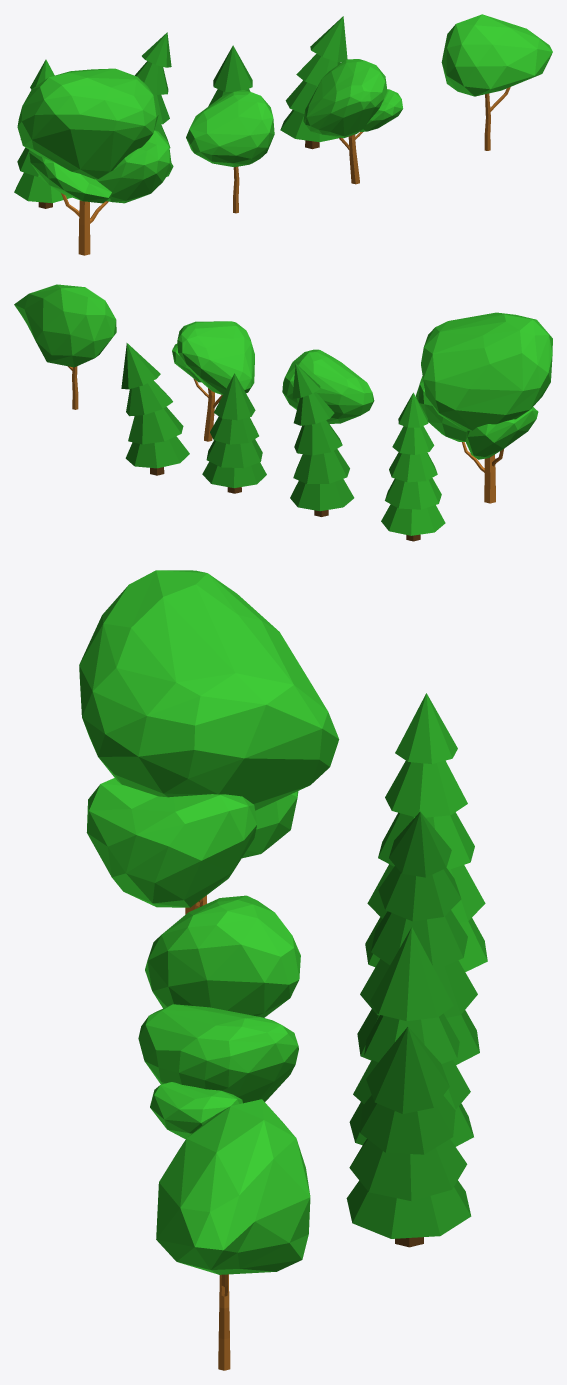
Rendered from Trees.fbx.
3 renders of one model, top to bottom at view 1: azimuth 30°, elevation 25°; view 2: azimuth 150°, elevation 25°; view 3: azimuth 270°, elevation 25°, orthographic. The views are drawn at different scales.
Visible parts, largest first — view 1: Green Tree 4, Green Tree 1, Green Tree 2, Green Tree 3, Pine Tree Bent, Pine Tree Tall Bent, Pine Tree Tall, Pine Tree; view 2: Green Tree 4, Green Tree 1, Pine Tree Tall Bent, Pine Tree Tall, Green Tree 2, Pine Tree Bent, Pine Tree, Green Tree 3; view 3: Green Tree 4, Green Tree 1, Pine Tree Bent, Green Tree 2, Green Tree 3, Pine Tree Tall Bent, Pine Tree Tall, Pine Tree.
Part boxes in pixels (<box>): Green Tree 4: <box>17,68,171,255</box>; Green Tree 1: <box>441,14,552,150</box>; Green Tree 2: <box>303,59,403,184</box>; Green Tree 3: <box>186,90,274,213</box>; Pine Tree Bent: <box>280,16,347,149</box>; Pine Tree Tall Bent: <box>135,32,173,176</box>; Pine Tree Tall: <box>14,59,71,208</box>; Pine Tree: <box>208,45,252,106</box>; Green Tree 4: <box>416,312,552,503</box>; Green Tree 1: <box>14,284,116,409</box>; Pine Tree Tall Bent: <box>290,363,354,516</box>; Pine Tree Tall: <box>381,392,445,541</box>; Green Tree 2: <box>172,321,254,441</box>; Pine Tree Bent: <box>121,343,189,475</box>; Pine Tree: <box>202,373,266,493</box>; Green Tree 3: <box>282,349,374,423</box>; Green Tree 4: <box>79,570,339,914</box>; Green Tree 1: <box>156,1099,310,1370</box>; Pine Tree Bent: <box>346,1027,471,1247</box>; Green Tree 2: <box>138,1004,298,1138</box>; Green Tree 3: <box>145,895,300,1017</box>; Pine Tree Tall Bent: <box>357,811,479,1064</box>; Pine Tree Tall: <box>365,693,487,971</box>; Pine Tree: <box>349,927,473,1146</box>.
Size of the model in its own units: 2108 by 704 by 704.
Materials: 2 (2 with a texture image).
